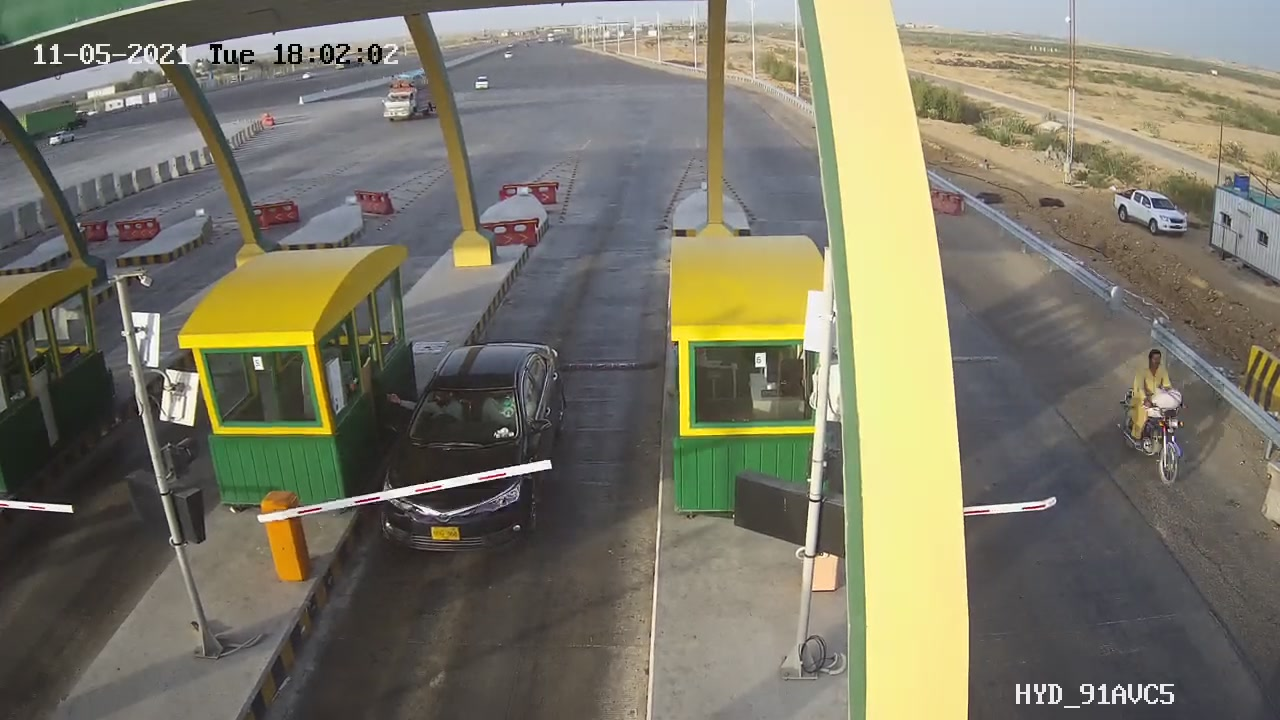F1: (365, 325, 577, 570)
